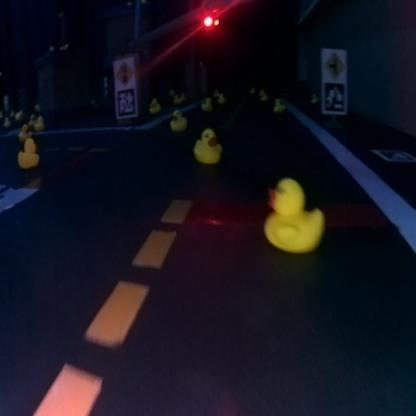duckie: (237, 154, 342, 266), (191, 118, 226, 170), (16, 133, 44, 168), (167, 103, 188, 131)
